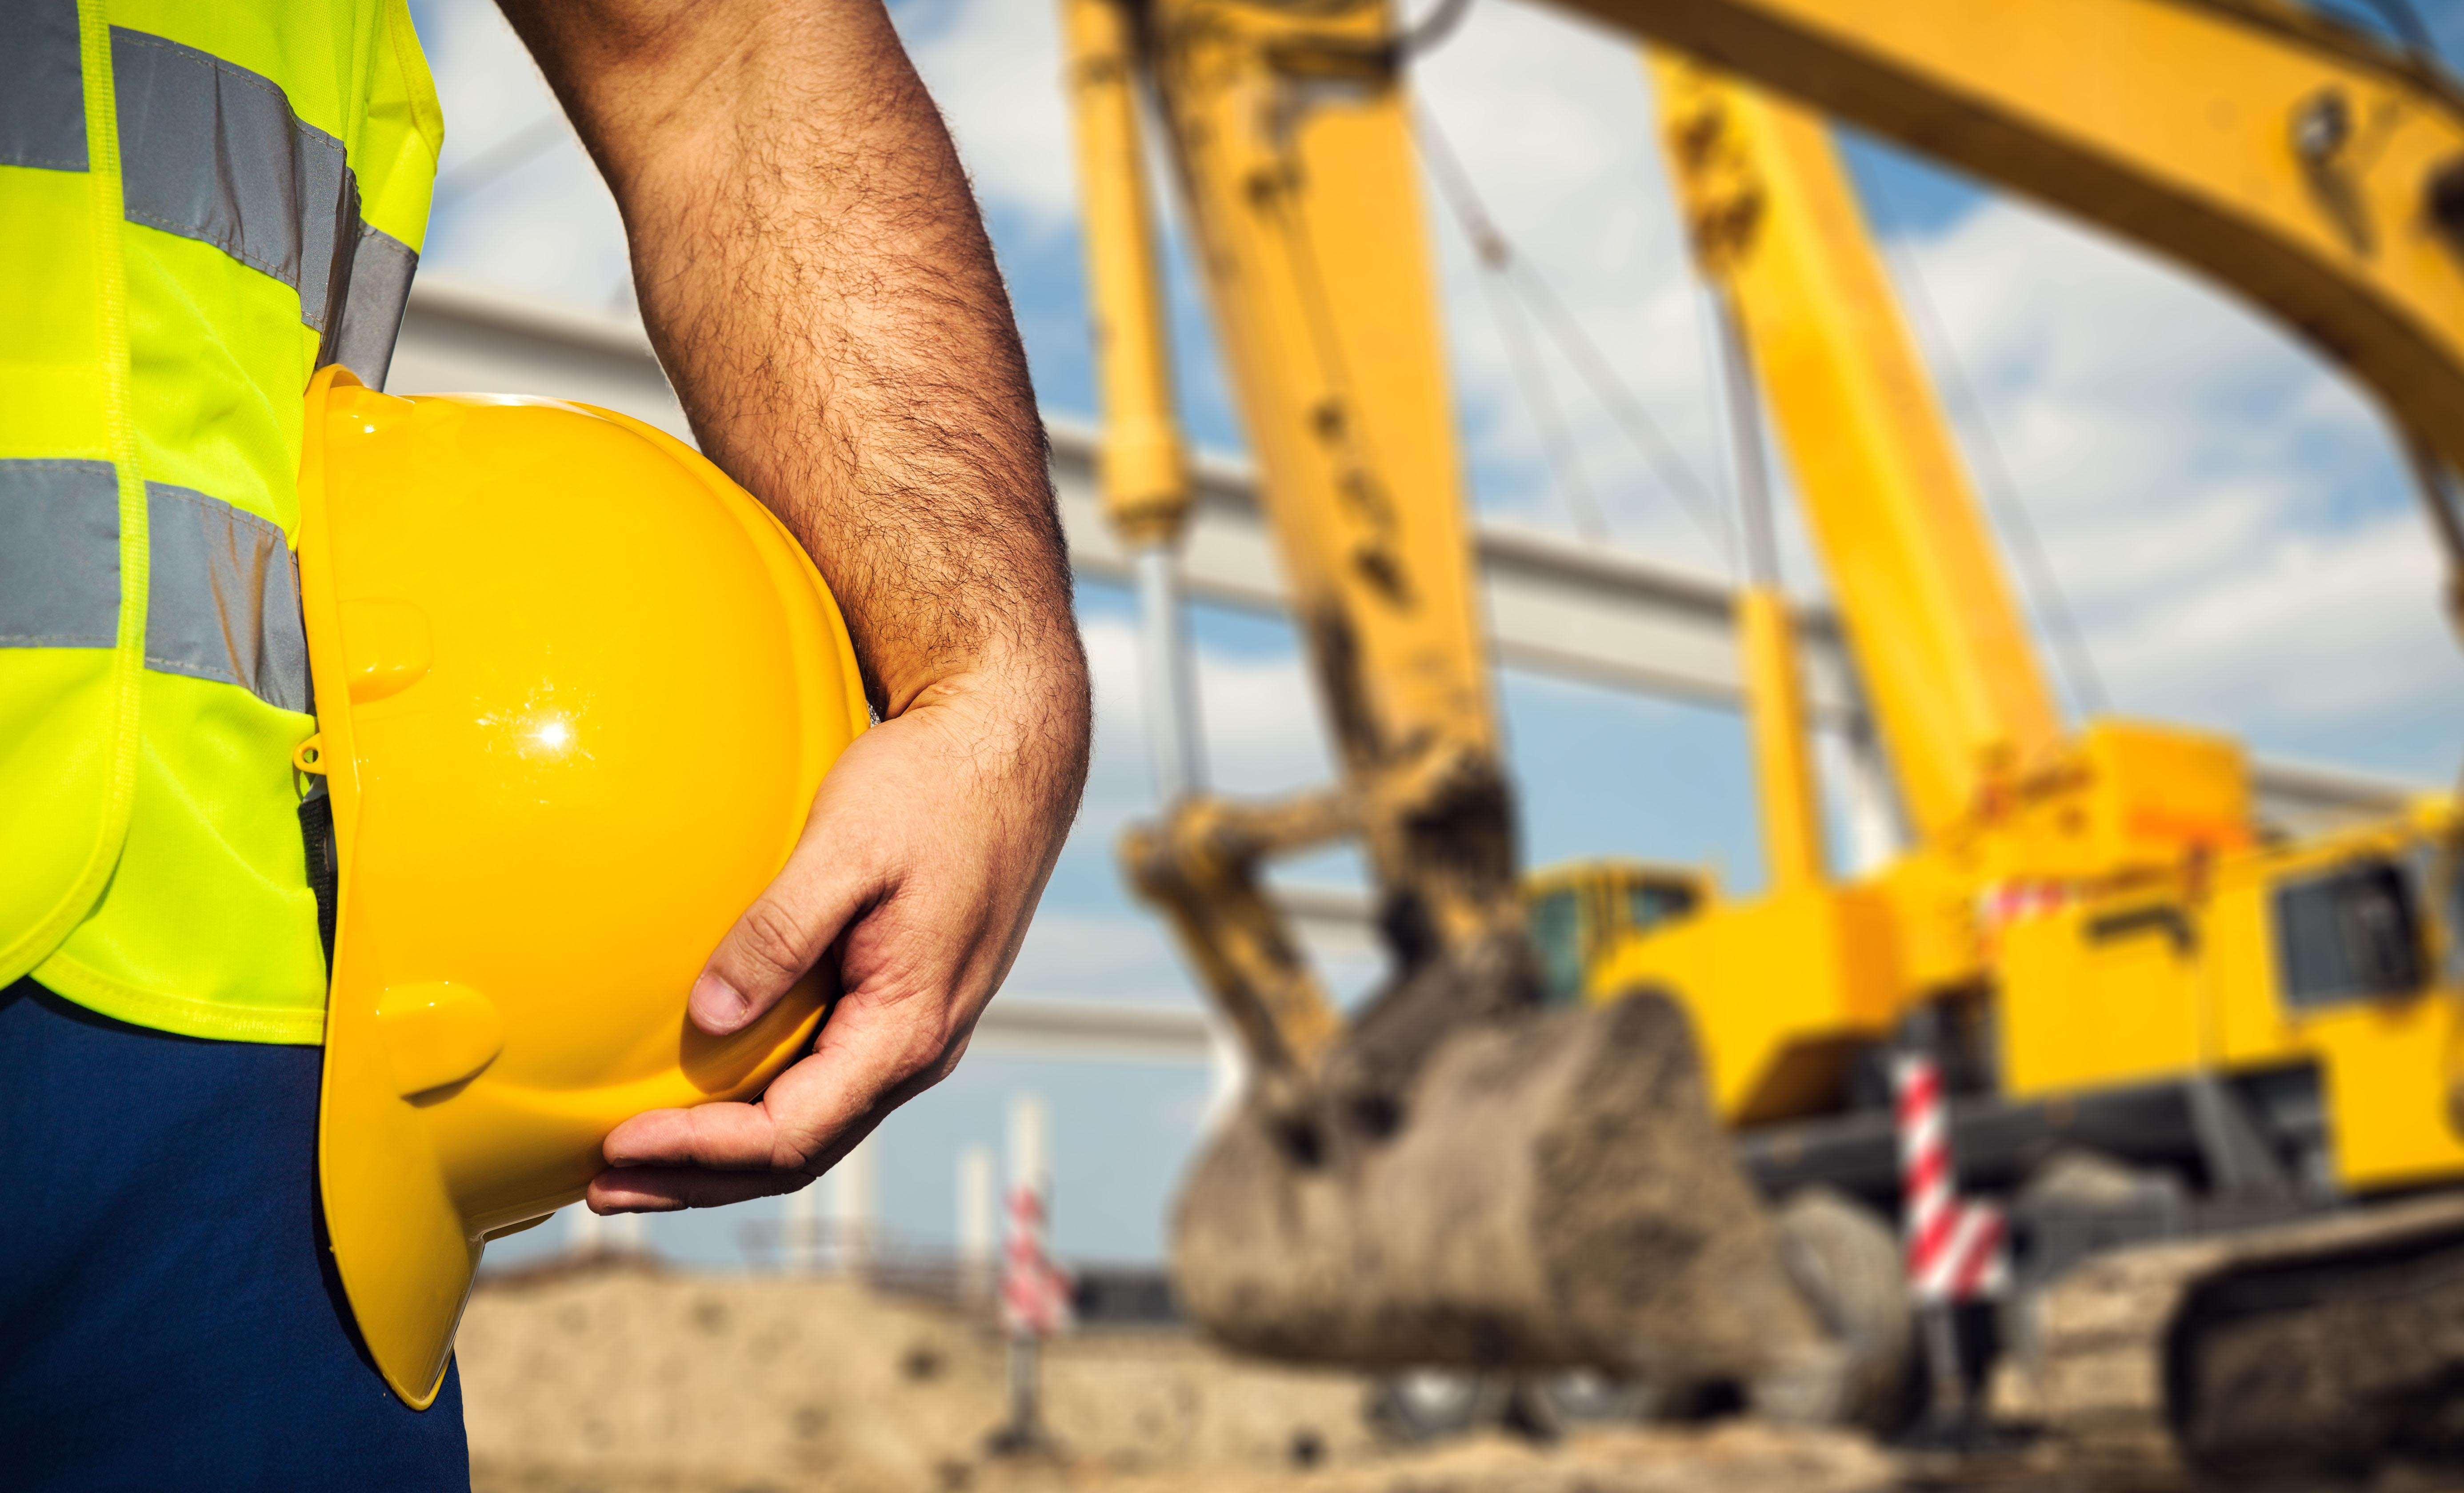helmet: (256, 365, 904, 1395)
